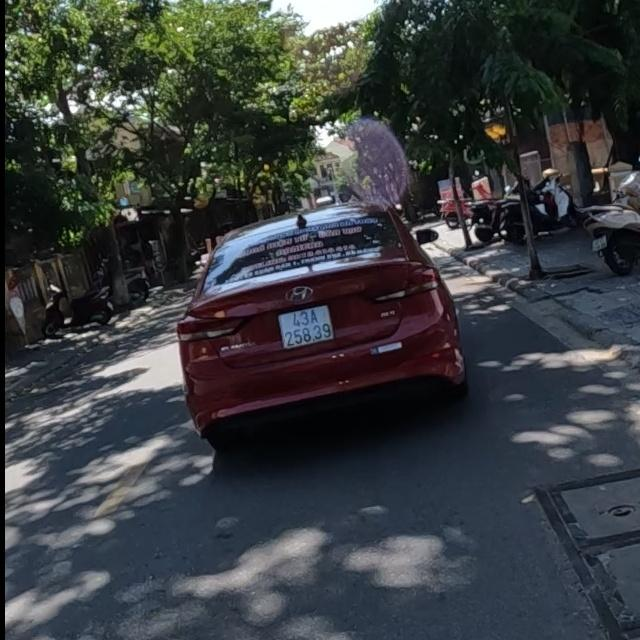license-plate: (277, 303, 334, 350)
